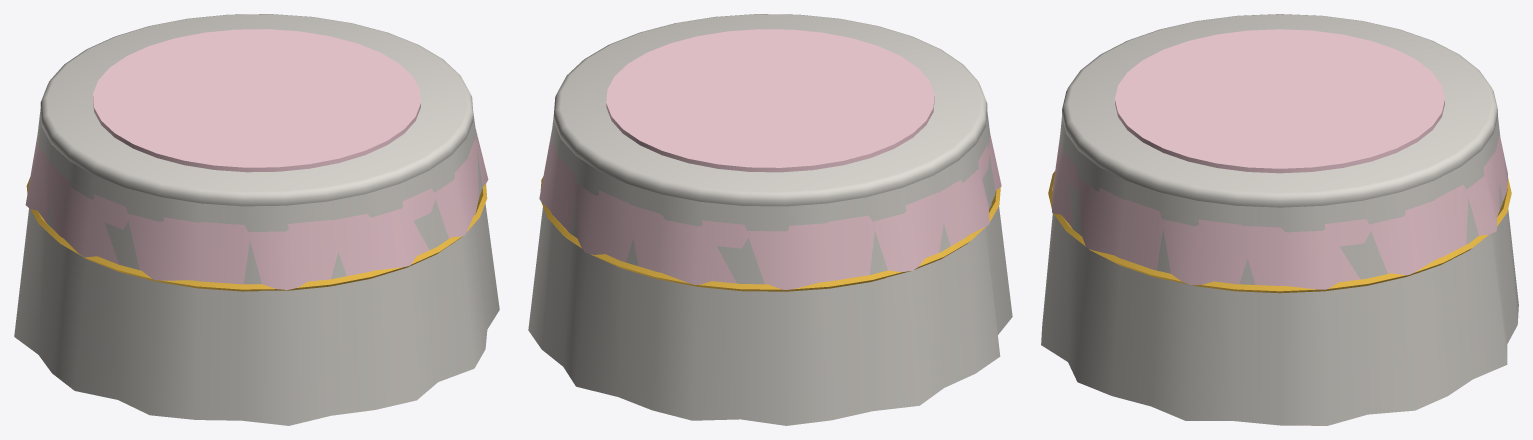
Rendered from mesa_redonda.glb.
3 renders of one model, left to right at view 1: azimuth 30°, elevation 25°; view 2: azimuth 150°, elevation 25°; view 3: azimuth 270°, elevation 25°, orthographic.
Parts seen in each view (by area): view 1: Mesa_Redonda; view 2: Mesa_Redonda; view 3: Mesa_Redonda.
Part boxes in pixels (box(x1,y1,x2,y2)): Mesa_Redonda: box(14, 14, 499, 425); Mesa_Redonda: box(528, 14, 1012, 425); Mesa_Redonda: box(1041, 14, 1518, 425).
Bounding box in the file's own units: 1.45 × 0.755 × 1.45.
